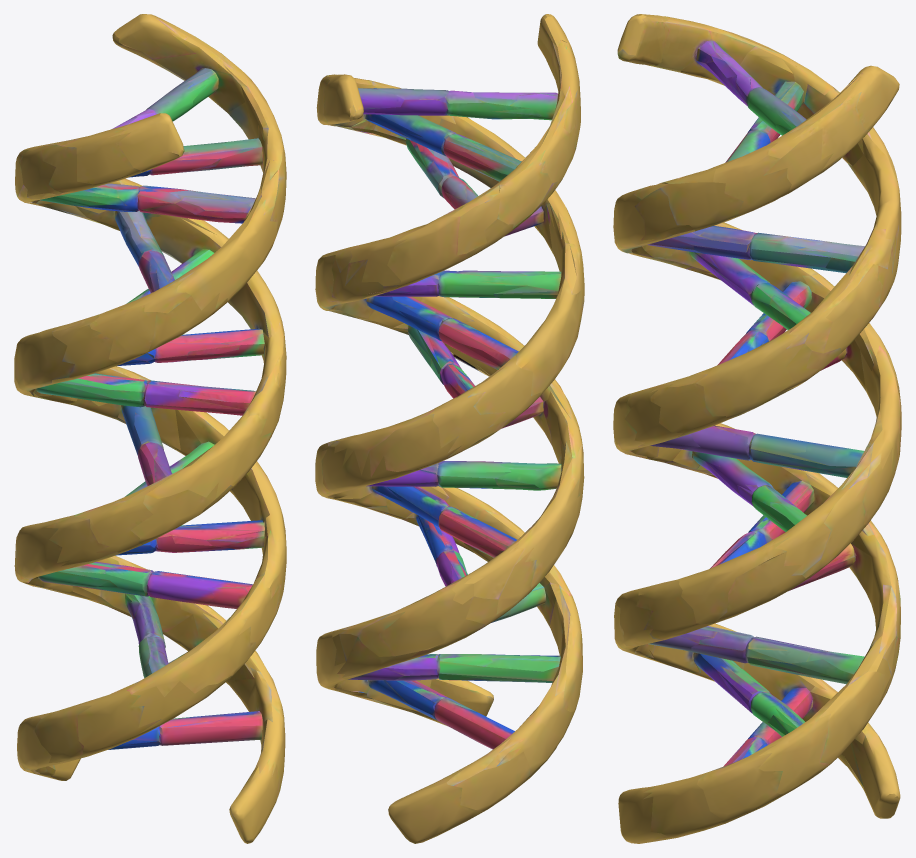
File: adn.glb
3 renders of one model, left to right at view 1: azimuth 30°, elevation 25°; view 2: azimuth 150°, elevation 25°; view 3: azimuth 270°, elevation 25°, orthographic. The views are drawn at different scales.
Visible parts, largest first — view 1: output_unwrapped; view 2: output_unwrapped; view 3: output_unwrapped.
Boxes of the visible parts, x1,y1,x2,y2 form: output_unwrapped: [14, 14, 286, 843]; output_unwrapped: [315, 14, 584, 843]; output_unwrapped: [613, 14, 901, 843].
Size of the model in its own units: 0.6247 by 1.9 by 0.6256.
Materials: 1 (1 with a texture image).
